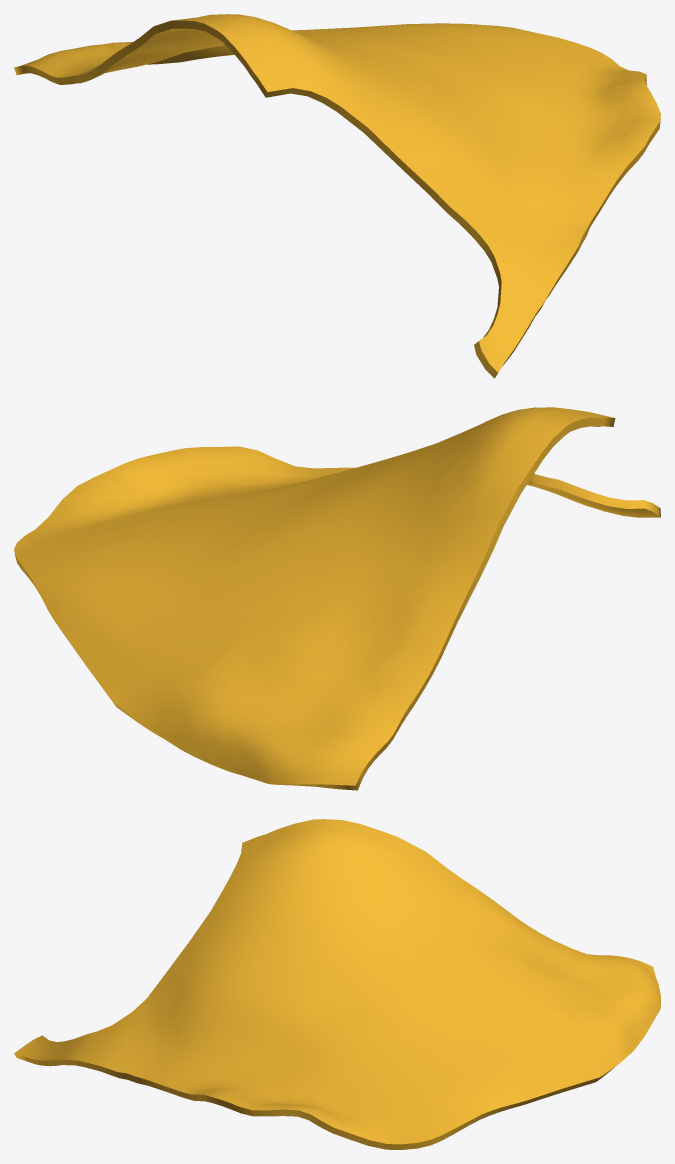
File: nervoso-tentorium-cerebelli-l.glb
The picture shows the model from 3 angles, top to bottom: view 1: azimuth 30°, elevation 25°; view 2: azimuth 150°, elevation 25°; view 3: azimuth 270°, elevation 25°; orthographic projection. The views are drawn at different scales.
Visible parts, largest first — view 1: Tentorium cerebelli.l; view 2: Tentorium cerebelli.l; view 3: Tentorium cerebelli.l.
Boxes of the visible parts, x1,y1,x2,y2 form: Tentorium cerebelli.l: (14,14,660,378); Tentorium cerebelli.l: (14,407,660,790); Tentorium cerebelli.l: (14,819,660,1149).
Bounding box in the file's own units: 0.0609 × 0.0309 × 0.0905.
